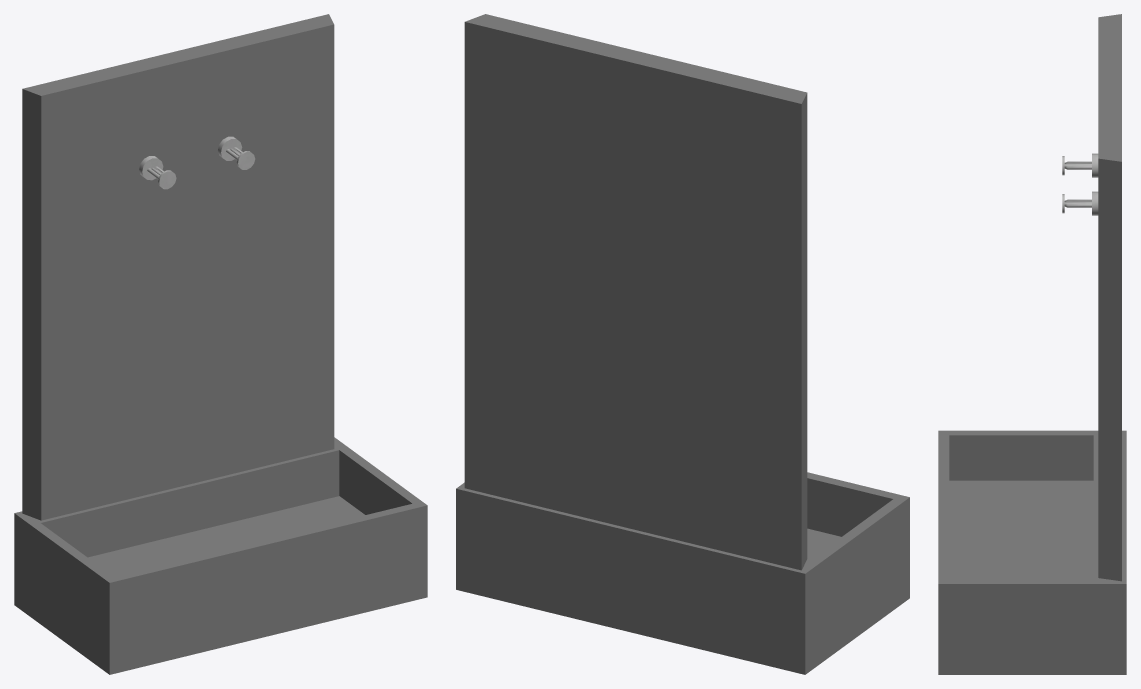
The model's file is JanitorDrain.fbx.
The picture shows the model from 3 angles, left to right: view 1: azimuth 30°, elevation 25°; view 2: azimuth 150°, elevation 25°; view 3: azimuth 270°, elevation 25°; orthographic projection. The views are drawn at different scales.
Visible parts, largest first — view 1: propJanitorDrain; view 2: propJanitorDrain; view 3: propJanitorDrain.
Boxes of the visible parts, x1=… form: propJanitorDrain: x1=14, y1=14, x2=427, y2=674; propJanitorDrain: x1=456, y1=14, x2=909, y2=674; propJanitorDrain: x1=938, y1=14, x2=1126, y2=674.
Bounding box in the file's own units: 110 × 171 × 57.22.
Materials: 2 (1 with a texture image).
